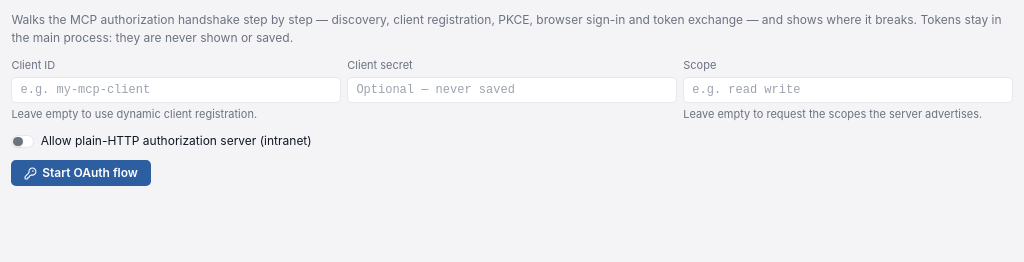
Test: McpOAuthSection — the switch › is off by default with no warning; on shows the red warning and sets the flag
Expected: the text "Allow plain-HTTP authorization server (intranet)" is shown, x1=11 y1=133 x2=312 y2=148
Click the switch with test id "mcp-oauth-allow-http".
click(23, 141)  # box x1=11 y1=135 x2=34 y2=148
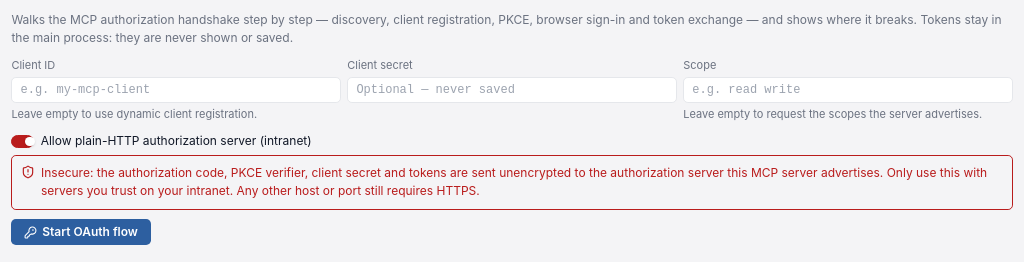
Result: the message with test id "mcp-oauth-allow-http-warning" shows "unencrypted" at x1=41 y1=165 x2=987 y2=198
Result: the message with test id "mcp-oauth-allow-http-warning" shows "authorization server this MCP server advertises" at x1=41 y1=165 x2=987 y2=198
Result: the message with test id "mcp-oauth-allow-http-warning" shows "servers you trust on your intranet" at x1=41 y1=165 x2=987 y2=198
Click the switch with test id "mcp-oauth-allow-http".
click(23, 141)  # box x1=11 y1=135 x2=34 y2=148
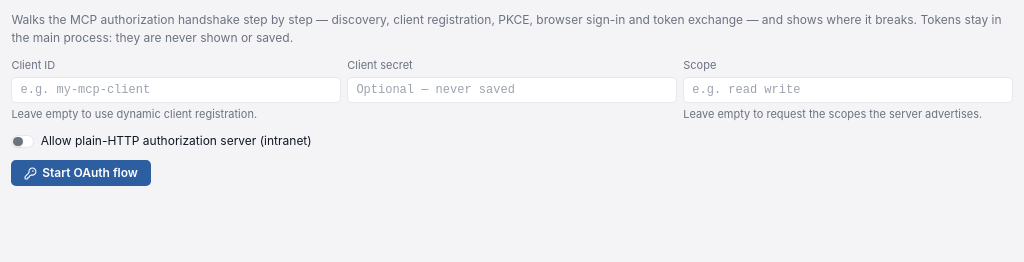
Result: the message with test id "mcp-oauth-allow-http-warning" is gone
